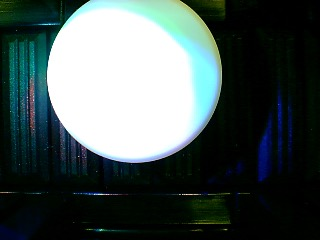BLANK: (46, 1, 223, 163)
